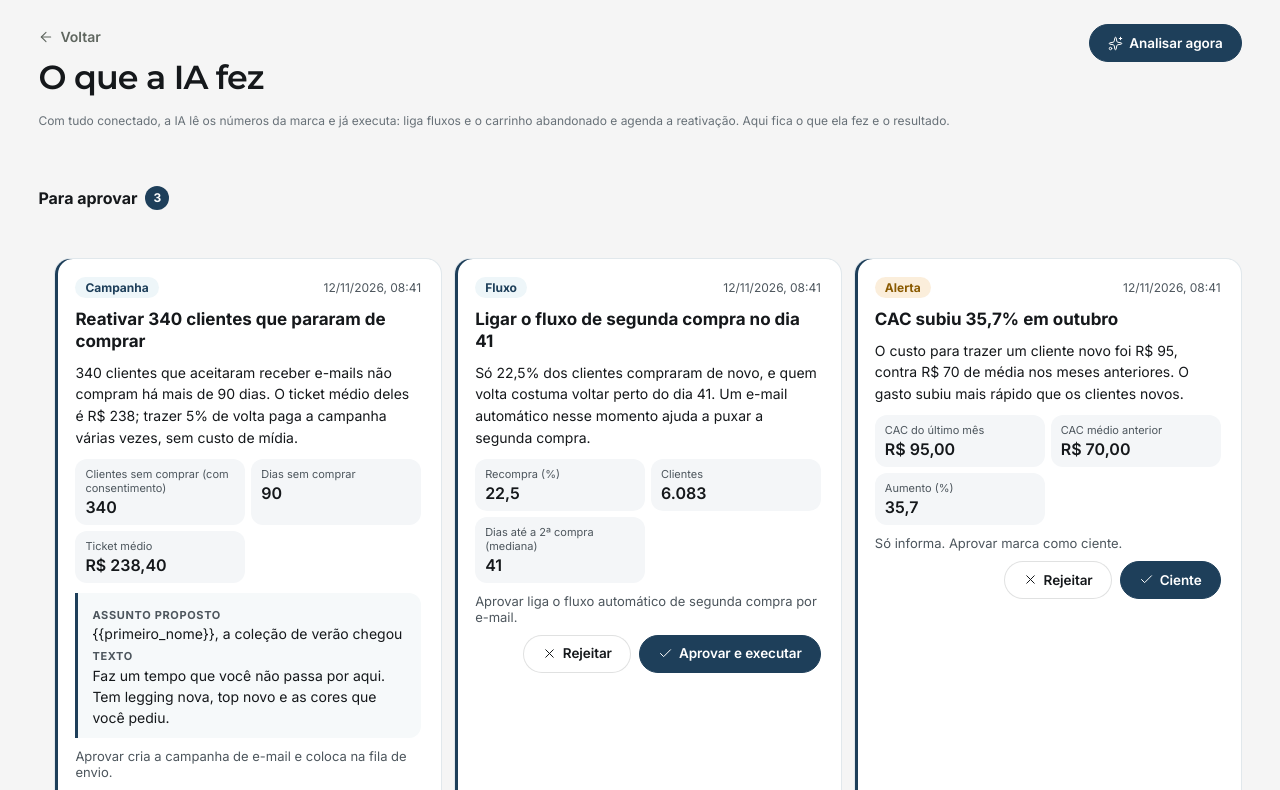
Ações da IA › aprovar executa e atualiza o cartão
This screenshot has width=1280, height=790.
Step 1. Click the button with class "is-primary" below "Dias até a 2ª compra (mediana)" → (730,654), box [639, 634, 821, 672]
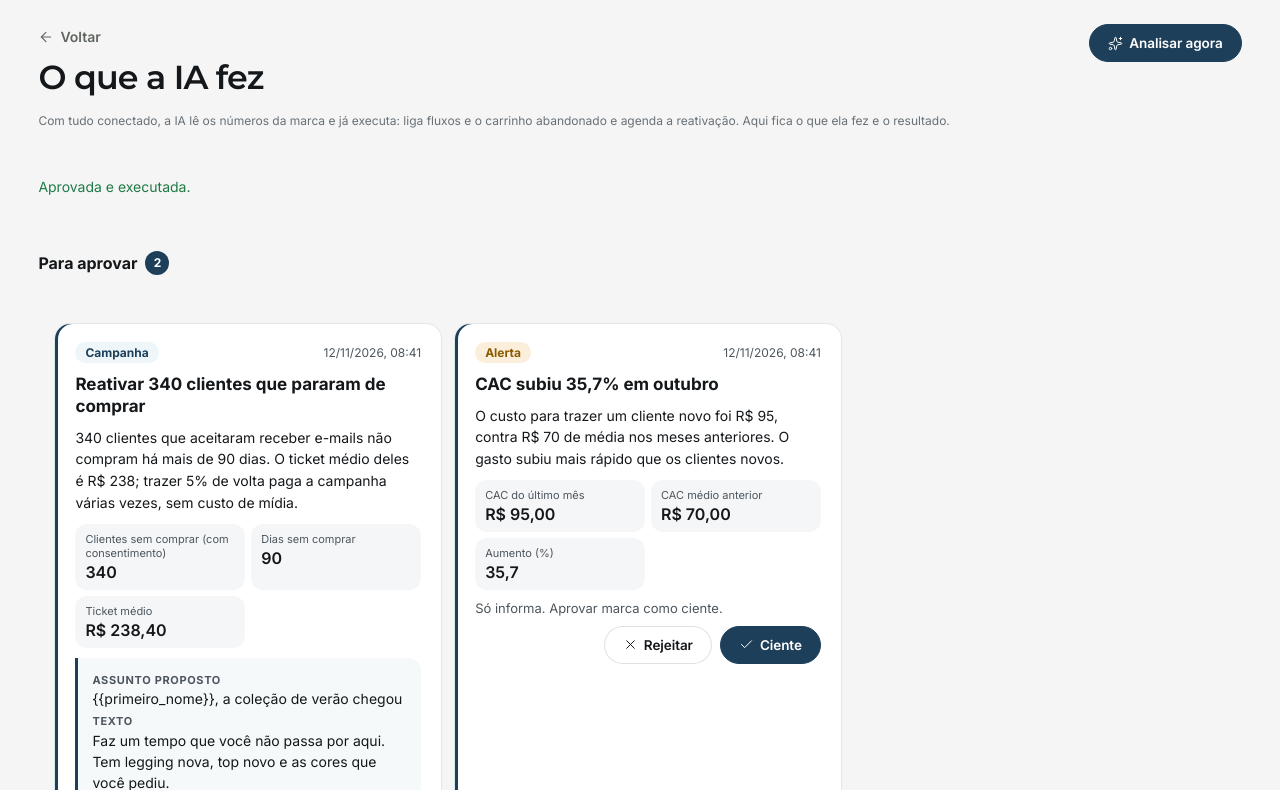
Now the text "Aprovada e executada." is shown, box [38, 178, 190, 195]
